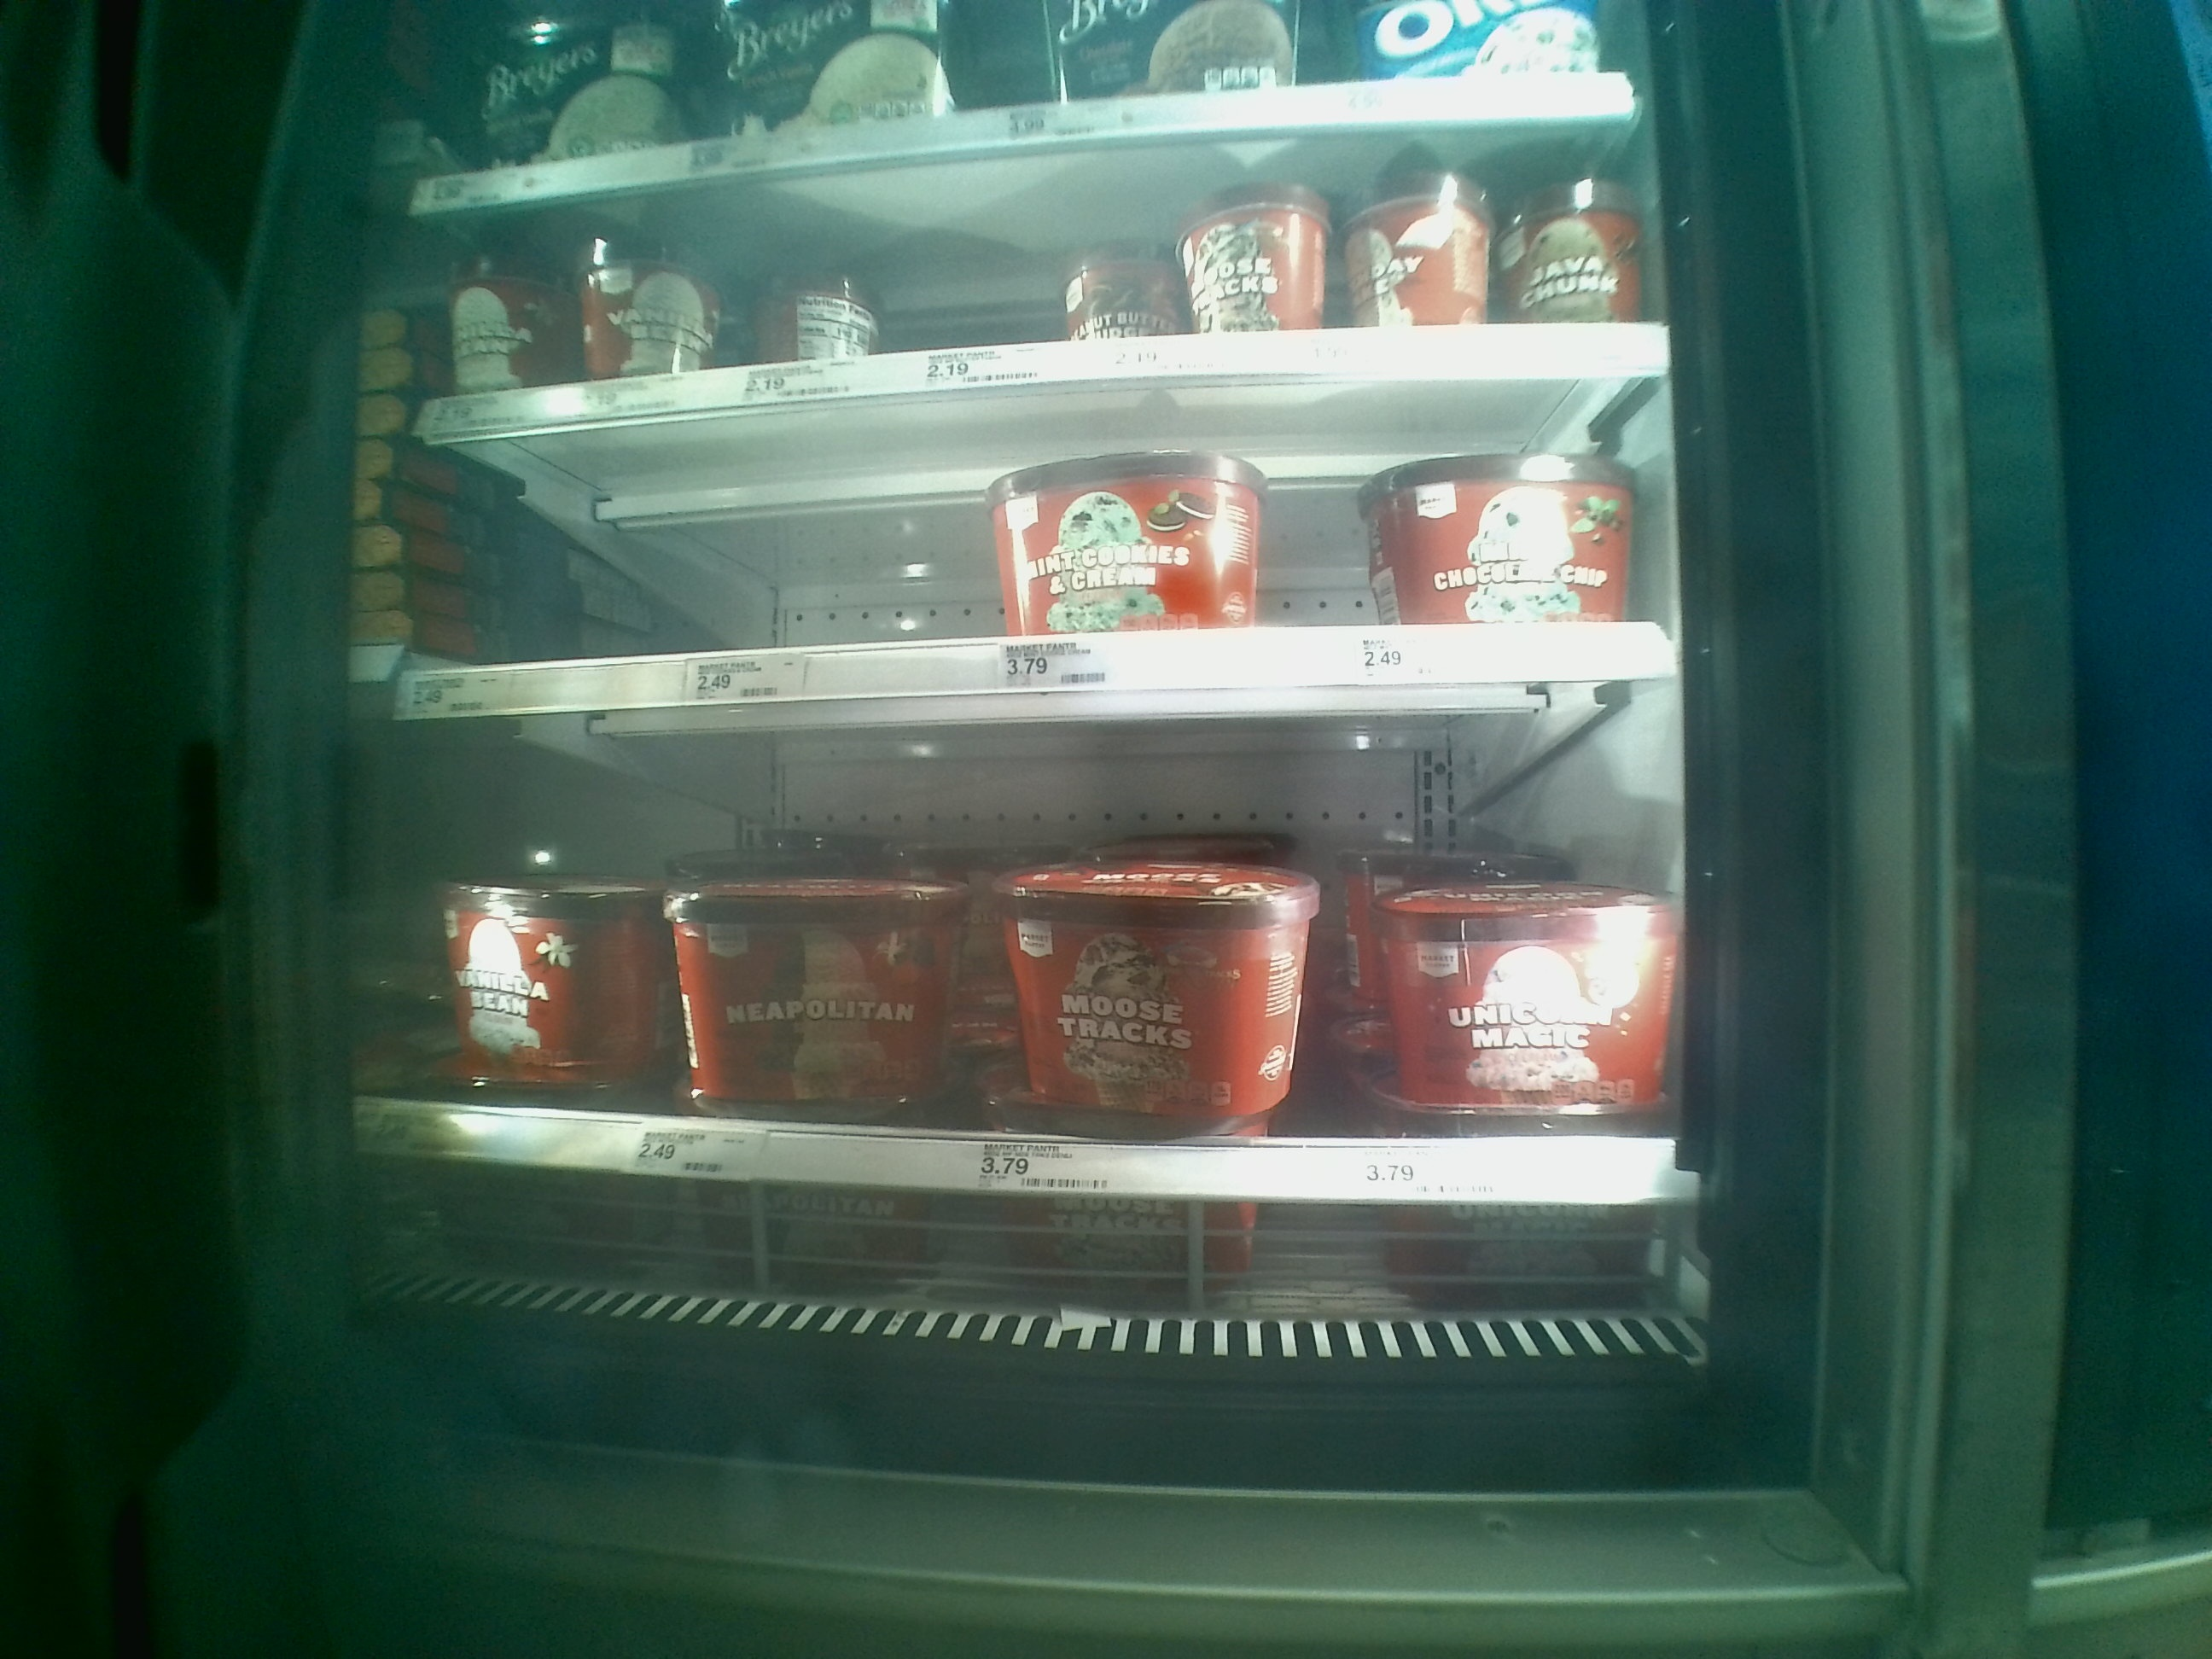ice-cream-shelf: (404, 681, 1684, 1241), (401, 396, 1676, 681)
